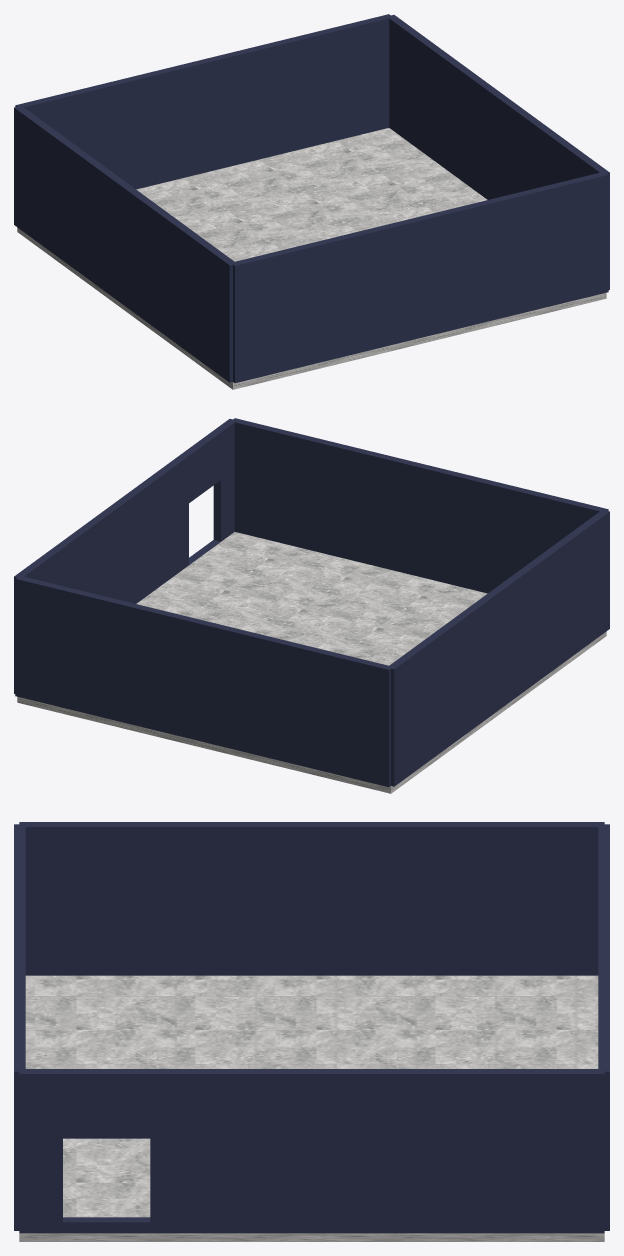
File: StudyCafe.glb
The picture shows the model from 3 angles, top to bottom: view 1: azimuth 30°, elevation 25°; view 2: azimuth 150°, elevation 25°; view 3: azimuth 270°, elevation 25°; orthographic projection. The views are drawn at different scales.
Parts seen in each view (by area): view 1: wall4, wall2, floor, wall3, wall1; view 2: wall2, wall4, floor, wall3, wall1; view 3: wall1, wall3, floor, wall4, wall2.
Part boxes in pixels (<box>): wall4: <box>232,171,608,383</box>; wall2: <box>15,14,392,189</box>; floor: <box>17,128,606,389</box>; wall3: <box>14,106,236,382</box>; wall1: <box>387,15,609,289</box>; wall2: <box>15,575,390,787</box>; wall4: <box>232,418,608,593</box>; floor: <box>17,532,606,793</box>; wall3: <box>387,510,609,786</box>; wall1: <box>14,419,235,693</box>; wall1: <box>19,1069,604,1233</box>; wall3: <box>19,822,604,975</box>; floor: <box>19,975,604,1241</box>; wall4: <box>14,824,25,1230</box>; wall2: <box>598,824,609,1230</box>.
Size of the model in its own units: 20.41 by 6.42 by 20.41.
Materials: 5 (5 with a texture image).
